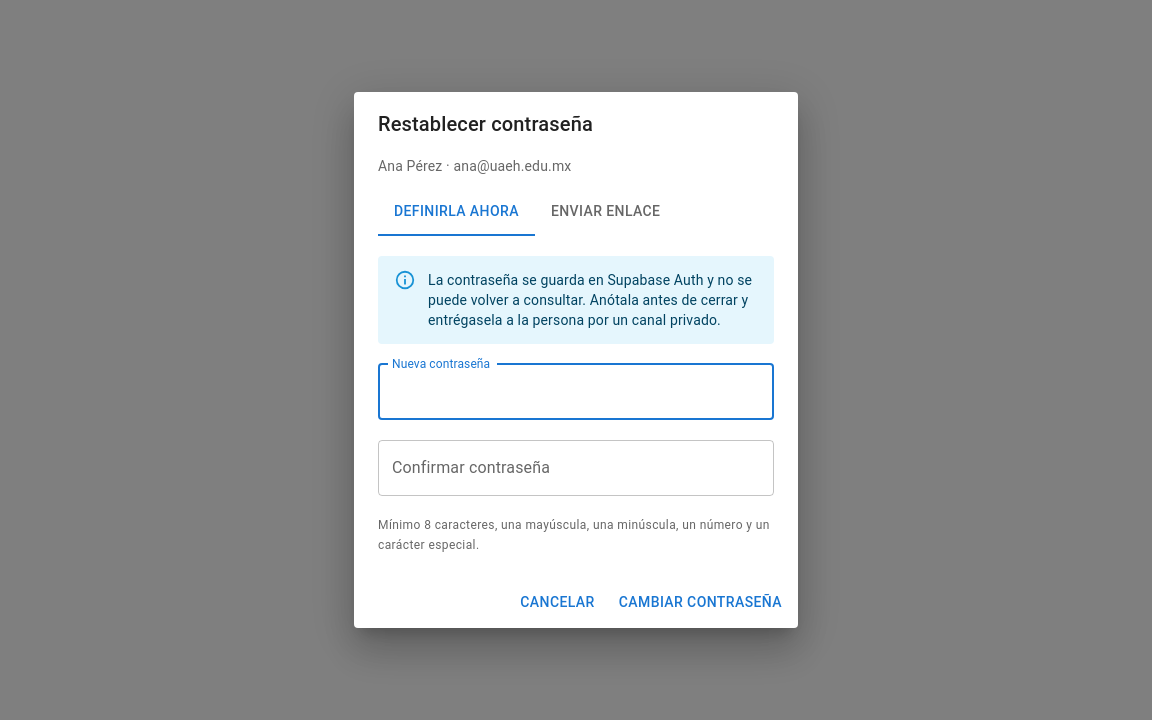
Test: DialogoContrasena › una contraseña débil no sale del navegador
Type "sigrem" into the password field labelled "Nueva contraseña" at (553,392), box 378,364 -> 728,420
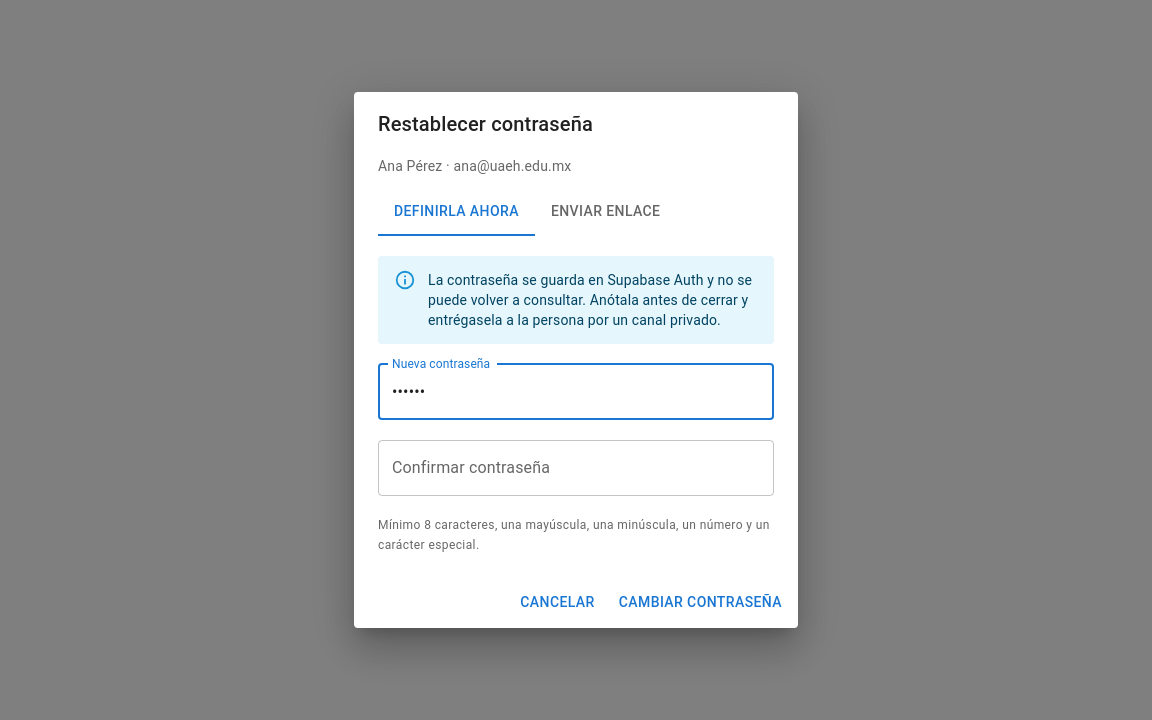
Type "sigrem" into the password field labelled "Confirmar contraseña" at (576,468), box 378,440 -> 774,496
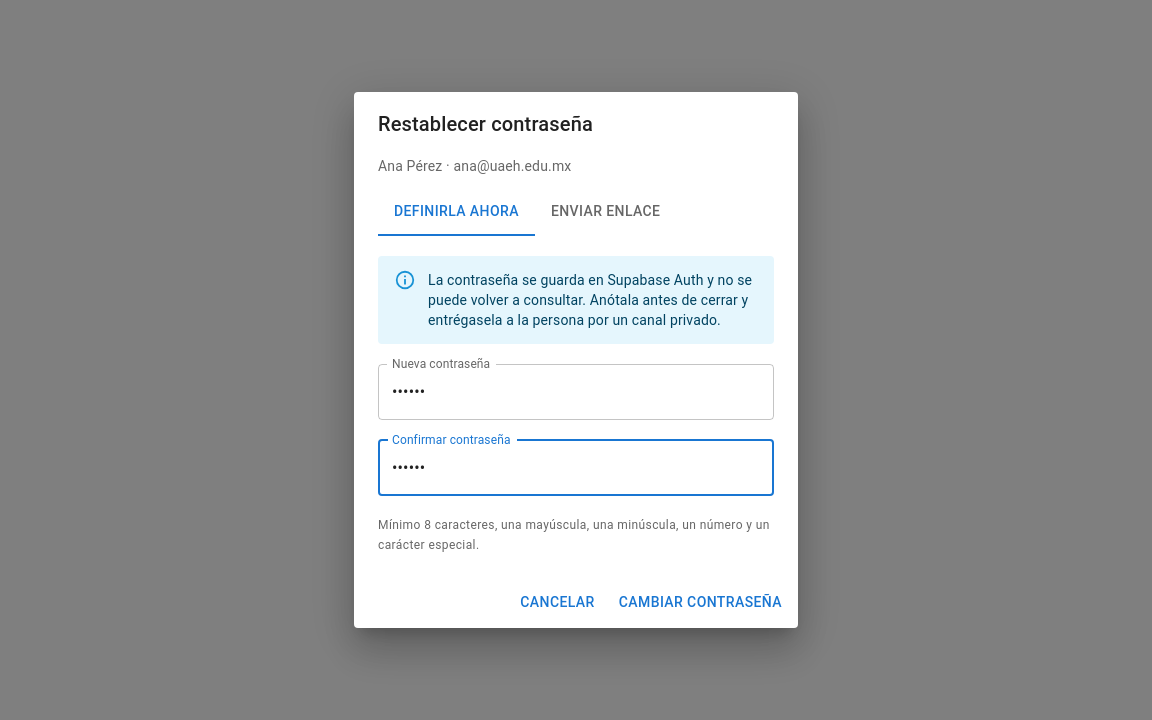
Click the button "Cambiar contraseña" at (700,602), box 611,584 -> 790,620
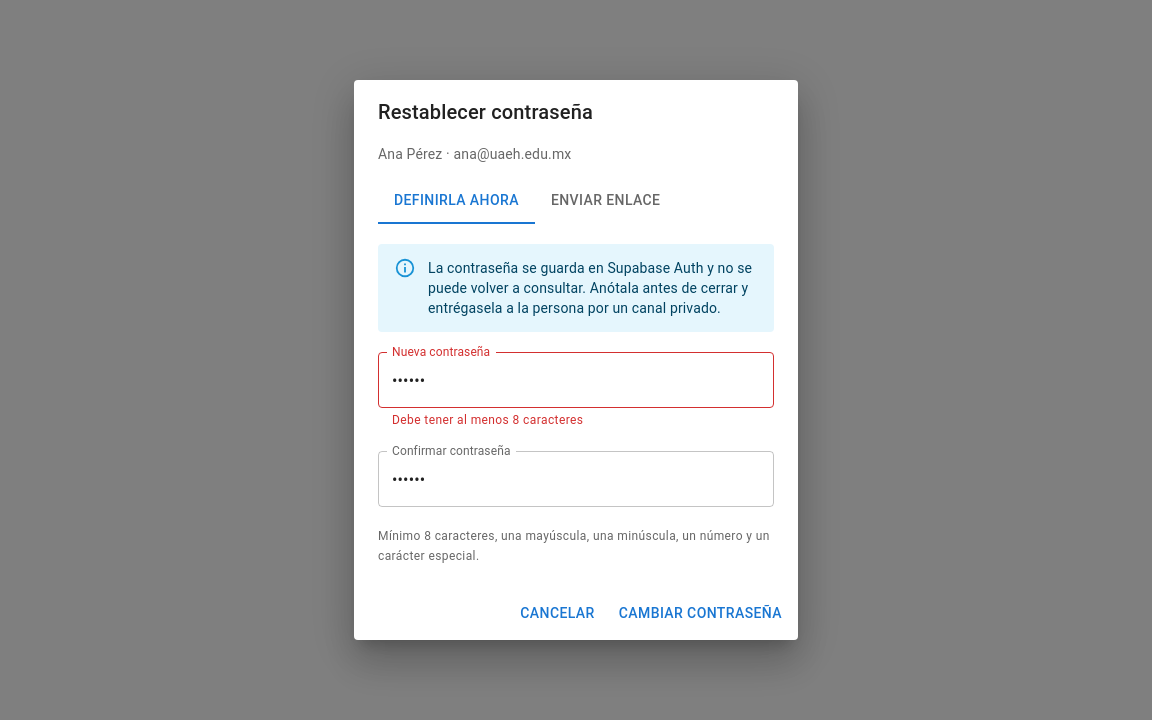
Expected: the text "Debe tener al menos 8 caracteres" is shown, 392,413 -> 583,427
